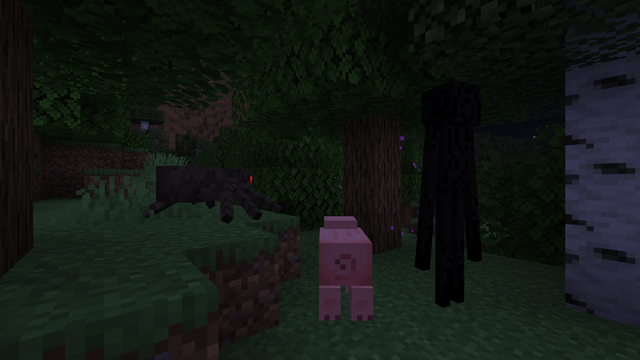araignees: (163, 158, 274, 225)
cochons: (296, 224, 389, 323)
endermens: (416, 69, 482, 319)
